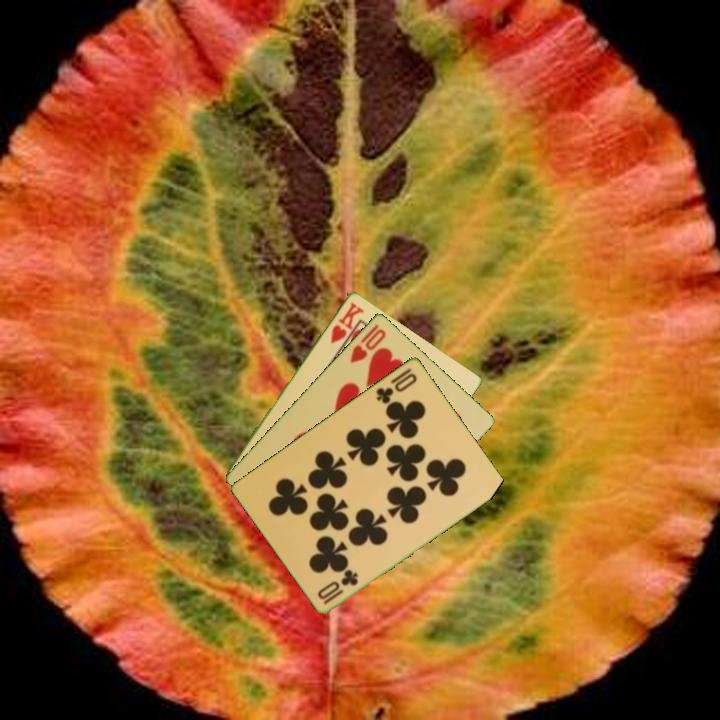10c: (372, 364, 420, 407), (314, 566, 361, 607)
10h: (346, 325, 389, 366)
Kh: (327, 298, 366, 346)
